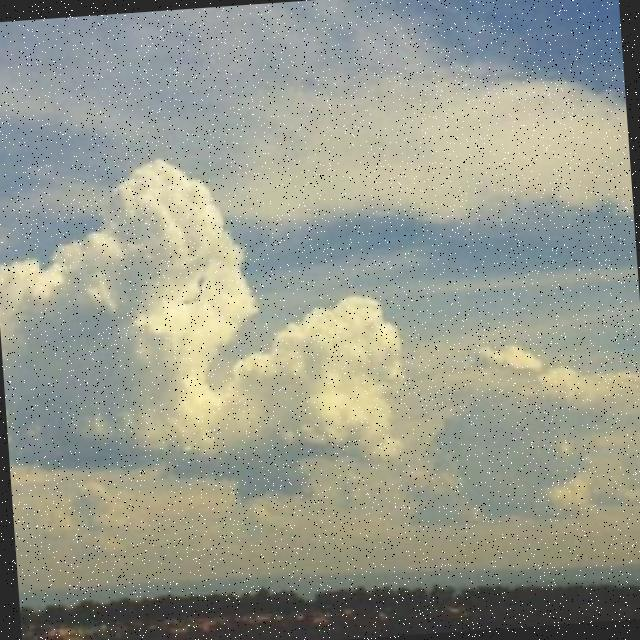Cs: (1, 52, 640, 526)
